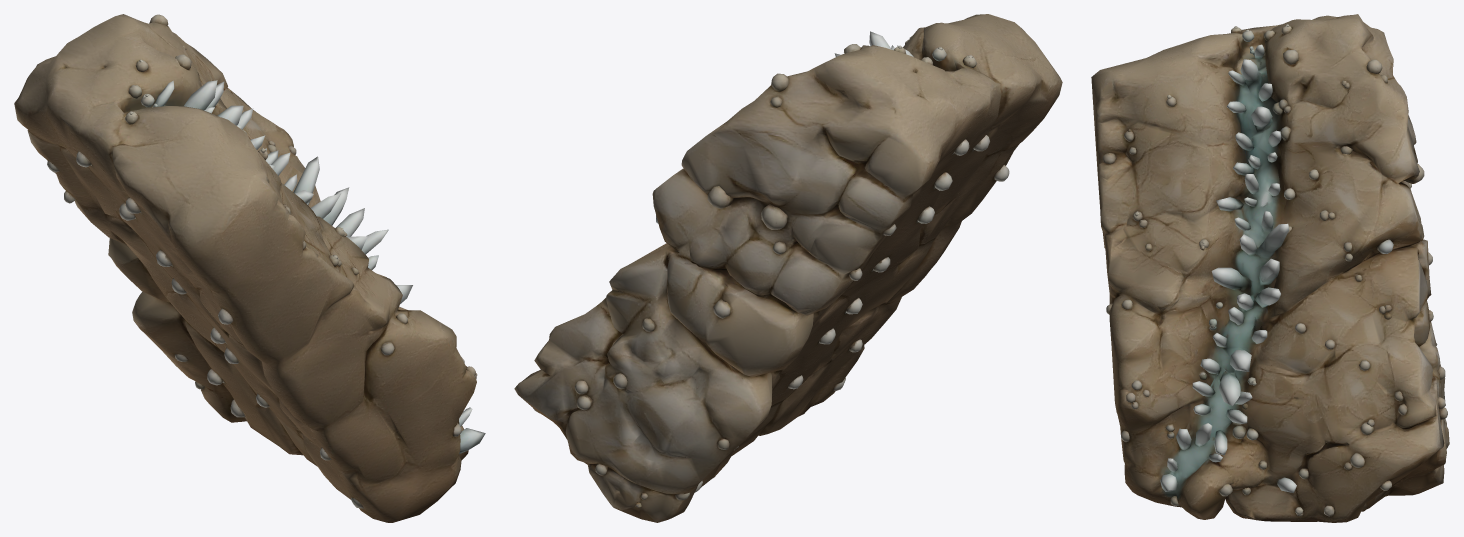
Rendered from cav_resonant_crystal_vein_b.glb.
3 renders of one model, left to right at view 1: azimuth 30°, elevation 25°; view 2: azimuth 150°, elevation 25°; view 3: azimuth 270°, elevation 25°, orthographic. The views are drawn at different scales.
Visible parts, largest first — view 1: tripo_node_27db1e25-f410-47bb-be75-9db522baf686; view 2: tripo_node_27db1e25-f410-47bb-be75-9db522baf686; view 3: tripo_node_27db1e25-f410-47bb-be75-9db522baf686.
Part boxes in pixels (bbox=[...]): tripo_node_27db1e25-f410-47bb-be75-9db522baf686: bbox=[14, 14, 485, 522]; tripo_node_27db1e25-f410-47bb-be75-9db522baf686: bbox=[514, 14, 1062, 522]; tripo_node_27db1e25-f410-47bb-be75-9db522baf686: bbox=[1091, 14, 1449, 522].
Bounding box in the file's own units: 0.8652 × 0.998 × 0.8027.
Materials: 1 (1 with a texture image).
